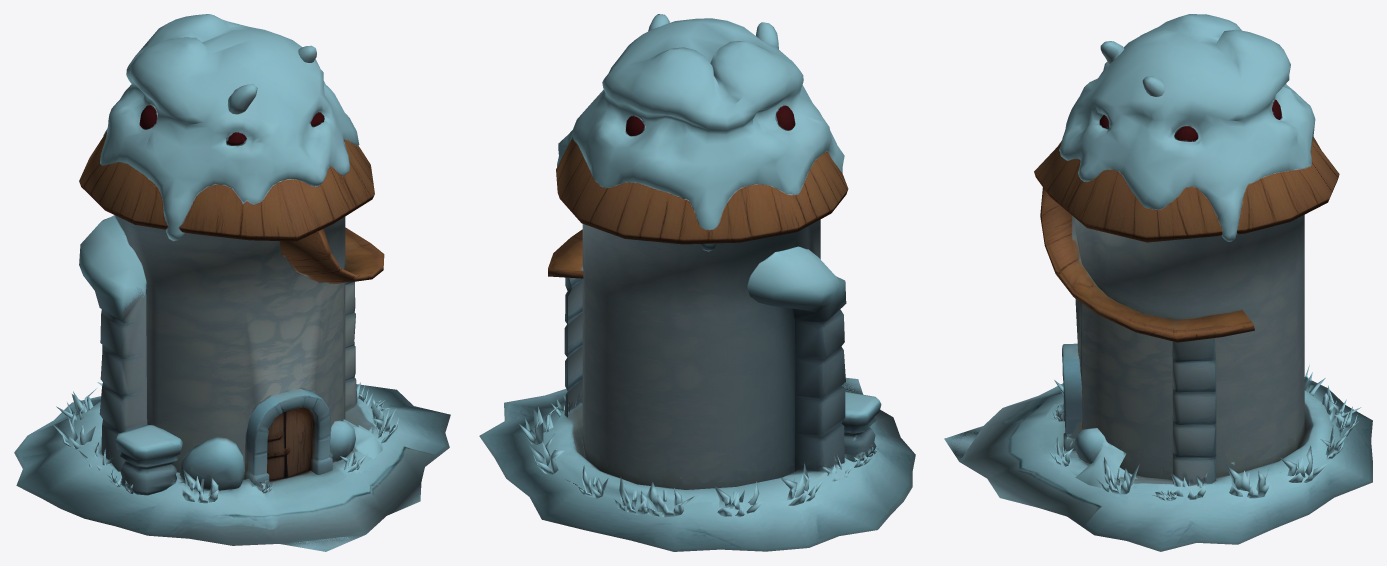
3 renders of one model, left to right at view 1: azimuth 30°, elevation 25°; view 2: azimuth 150°, elevation 25°; view 3: azimuth 270°, elevation 25°, orthographic. The views are drawn at different scales.
Visible parts, largest first — view 1: tripo_node_627eddda-40df-4997-8040-adc31958021d; view 2: tripo_node_627eddda-40df-4997-8040-adc31958021d; view 3: tripo_node_627eddda-40df-4997-8040-adc31958021d.
Part boxes in pixels (x1=…): tripo_node_627eddda-40df-4997-8040-adc31958021d: x1=14, y1=14, x2=450, y2=551; tripo_node_627eddda-40df-4997-8040-adc31958021d: x1=479, y1=14, x2=915, y2=551; tripo_node_627eddda-40df-4997-8040-adc31958021d: x1=944, y1=14, x2=1372, y2=551.
Size of the model in its own units: 0.9902 by 0.998 by 0.9316.
1 material, 1 textured.
